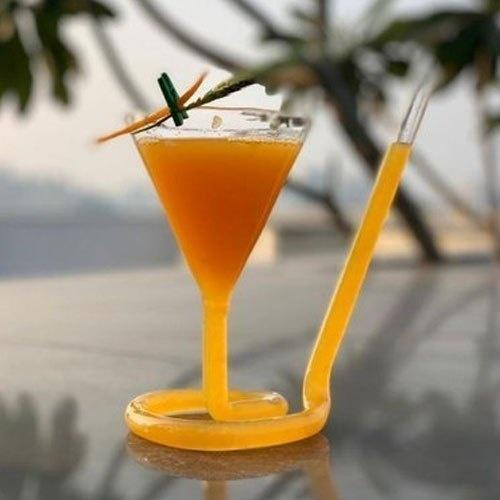glass-wine: (131, 103, 308, 434)
